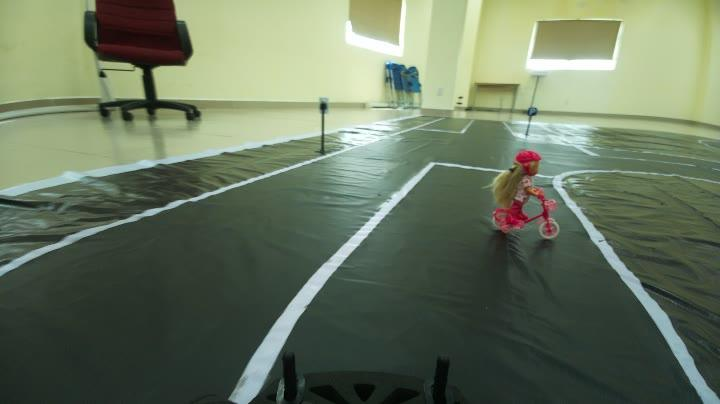pedestrian: (484, 146, 570, 240)
